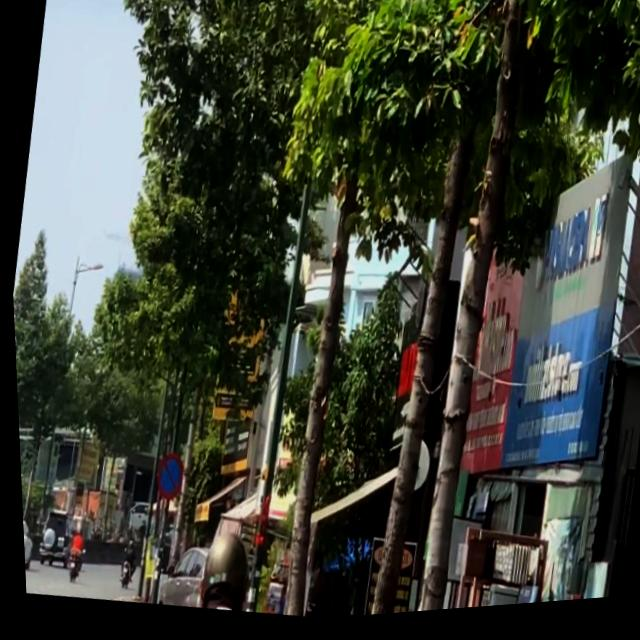Cam do xe: (146, 452, 183, 506)
